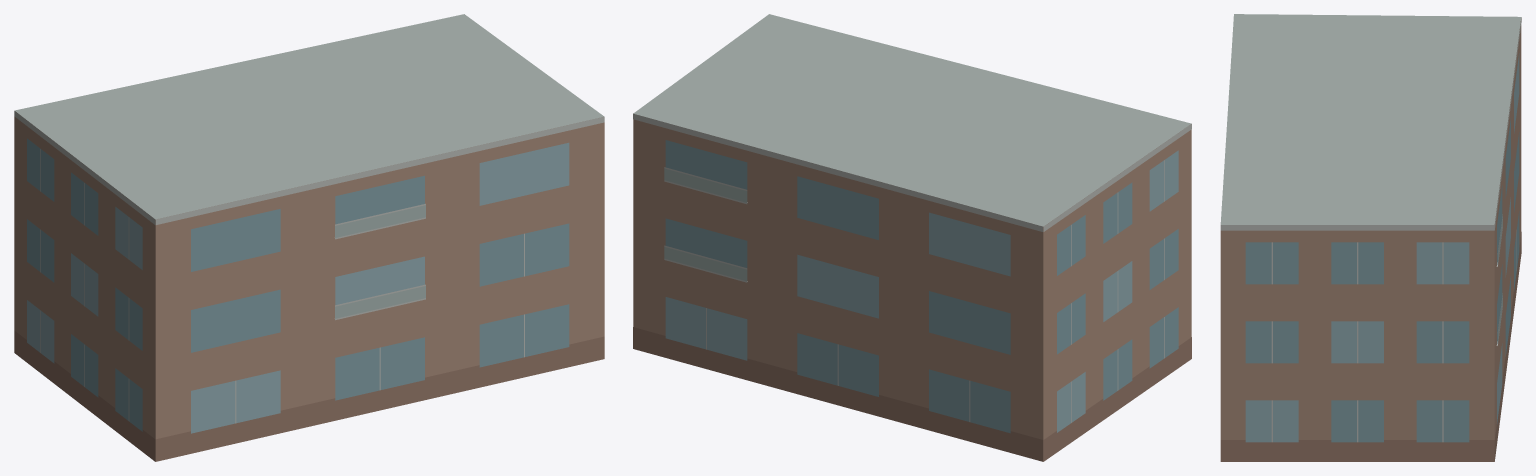
File: survey-upis-33006366.glb
3 views of the same model, side by side, from view 1: azimuth 30°, elevation 25°; view 2: azimuth 150°, elevation 25°; view 3: azimuth 270°, elevation 25° (orthographic). The views are drawn at different scales.
Visible parts, largest first — view 1: survey-upis-33006366.tmp; view 2: survey-upis-33006366.tmp; view 3: survey-upis-33006366.tmp.
Part boxes in pixels (x1,y1,x2,y2): survey-upis-33006366.tmp: (14, 14, 604, 461); survey-upis-33006366.tmp: (633, 14, 1191, 461); survey-upis-33006366.tmp: (1220, 14, 1521, 461).
Size of the model in its own units: 19.49 by 10.2 by 11.75.
